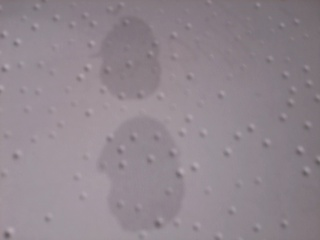Water_detected: (104, 38, 184, 204)
